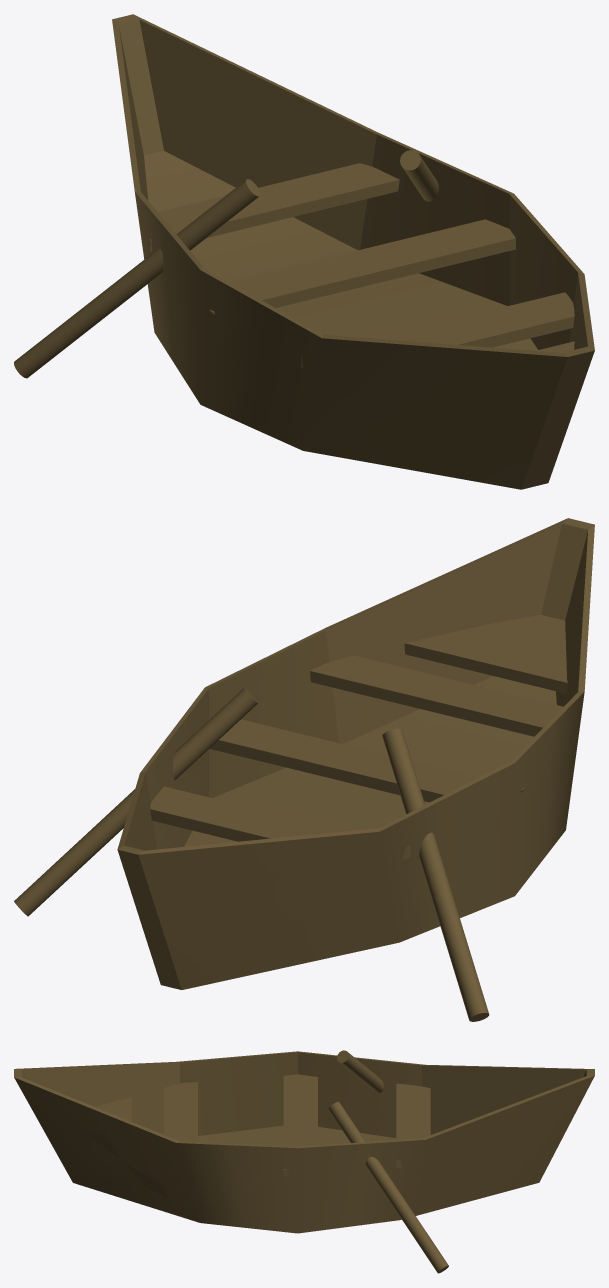
Rendered from WoodBoat.FBX.
3 renders of one model, top to bottom at view 1: azimuth 30°, elevation 25°; view 2: azimuth 150°, elevation 25°; view 3: azimuth 270°, elevation 25°, orthographic. The views are drawn at different scales.
Parts seen in each view (by area): view 1: pCube94, pCube97, pCube96, pCylinder12, pCube95, pCylinder11; view 2: pCube94, pCube95, pCube97, pCube98, pCylinder12, pCylinder11, pCube96; view 3: pCube94, pCube97, pCylinder11, pCube95, pCube96, pCylinder12, pCube98.
Boxes of the visible parts, bbox=[...] form: pCube94: bbox=[112, 14, 594, 489]; pCube97: bbox=[209, 219, 515, 314]; pCube96: bbox=[149, 163, 399, 251]; pCylinder12: bbox=[14, 179, 260, 378]; pCube95: bbox=[301, 292, 574, 368]; pCylinder11: bbox=[400, 150, 438, 201]; pCube94: bbox=[117, 518, 594, 989]; pCube95: bbox=[310, 655, 571, 745]; pCube97: bbox=[209, 719, 524, 802]; pCube98: bbox=[404, 615, 567, 693]; pCylinder12: bbox=[382, 728, 489, 1021]; pCylinder11: bbox=[14, 688, 257, 916]; pCube96: bbox=[150, 786, 410, 859]; pCube94: bbox=[14, 1051, 594, 1233]; pCube97: bbox=[283, 1074, 317, 1176]; pCylinder11: bbox=[328, 1101, 448, 1273]; pCube95: bbox=[164, 1082, 197, 1170]; pCube96: bbox=[396, 1083, 430, 1168]; pCylinder12: bbox=[337, 1050, 383, 1092]; pCube98: bbox=[94, 1097, 131, 1121].
Bounding box in the file's own units: 2.64 × 1.13 × 4.45.
